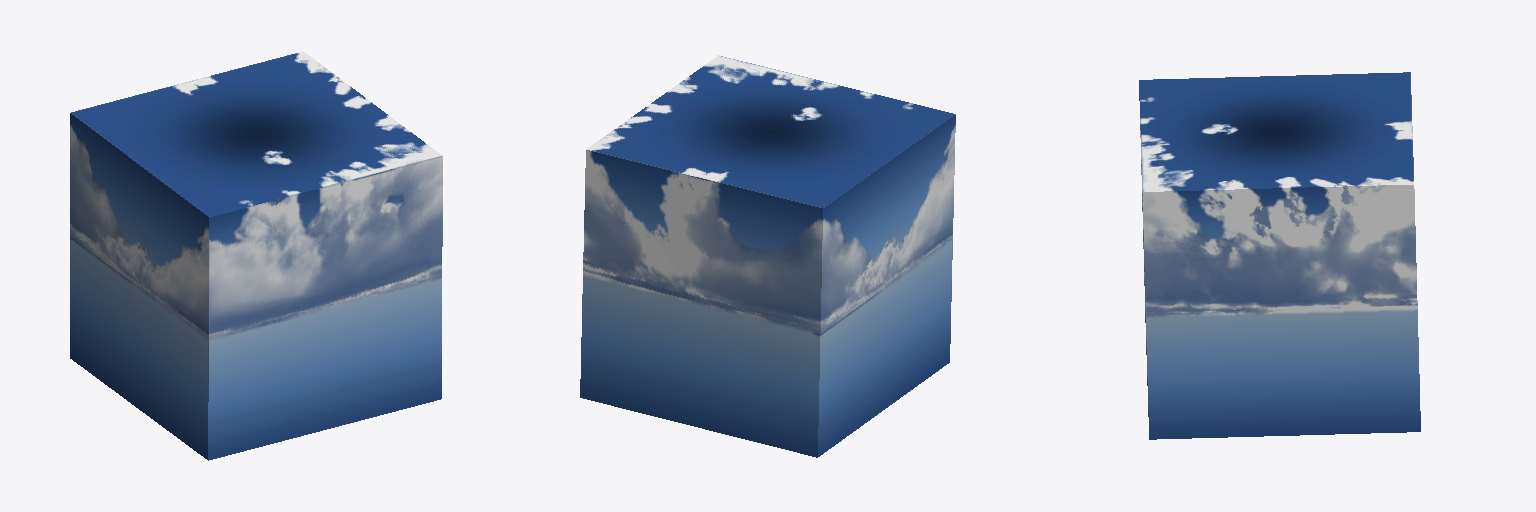
3 views of the same model, side by side, from view 1: azimuth 30°, elevation 25°; view 2: azimuth 150°, elevation 25°; view 3: azimuth 270°, elevation 25° (orthographic).
Visible parts, largest first — view 1: Cube; view 2: Cube; view 3: Cube.
Boxes of the visible parts, <box> form: Cube: <box>70,51,442,460</box>; Cube: <box>580,55,955,457</box>; Cube: <box>1139,72,1420,439</box>.
Size of the model in its own units: 2.05 by 2.07 by 2.08.
Materials: 1 (1 with a texture image).